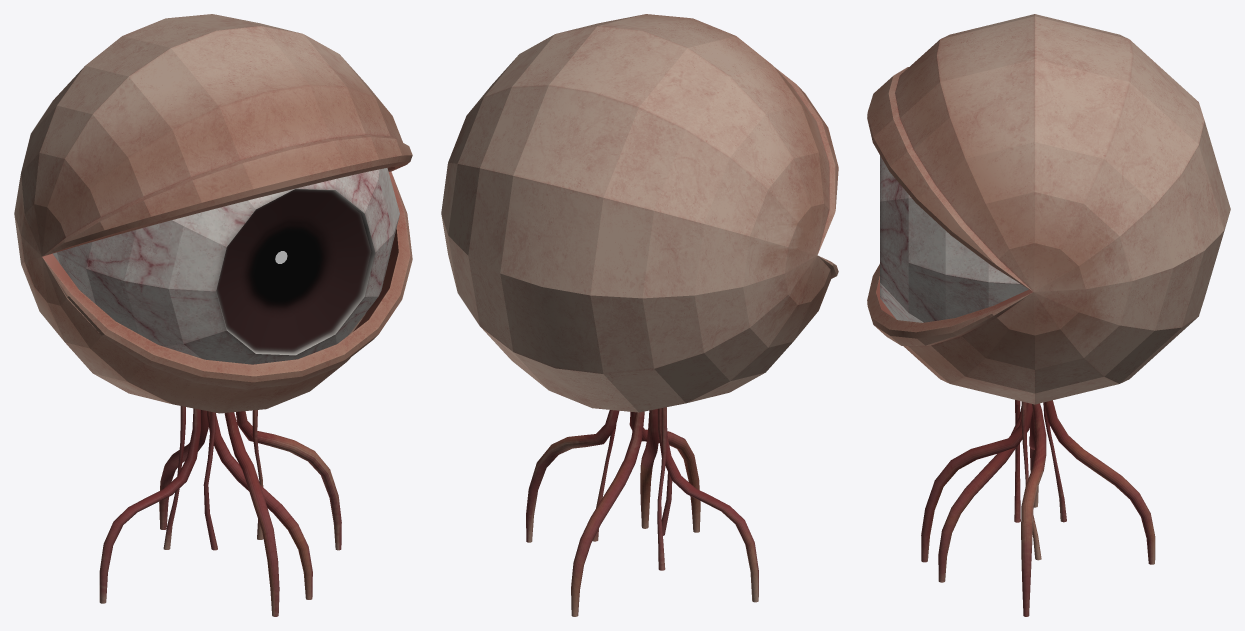
The model's file is eyeball.fbx.
3 renders of one model, left to right at view 1: azimuth 30°, elevation 25°; view 2: azimuth 150°, elevation 25°; view 3: azimuth 270°, elevation 25°, orthographic. The views are drawn at different scales.
Parts seen in each view (by area): view 1: eyesocket_GEO, eyeball_GEO; view 2: eyesocket_GEO; view 3: eyesocket_GEO, eyeball_GEO.
Part boxes in pixels (bbox=[...]): eyesocket_GEO: bbox=[14, 14, 412, 616]; eyeball_GEO: bbox=[53, 168, 399, 364]; eyesocket_GEO: bbox=[441, 14, 838, 616]; eyesocket_GEO: bbox=[867, 14, 1230, 616]; eyeball_GEO: bbox=[880, 155, 1028, 322].
Size of the model in its own units: 1.21 by 1.8 by 1.12.
Materials: 3 (2 with a texture image).
